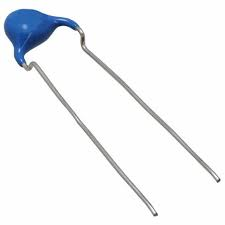ceramic capacitor: (1, 6, 118, 104)
